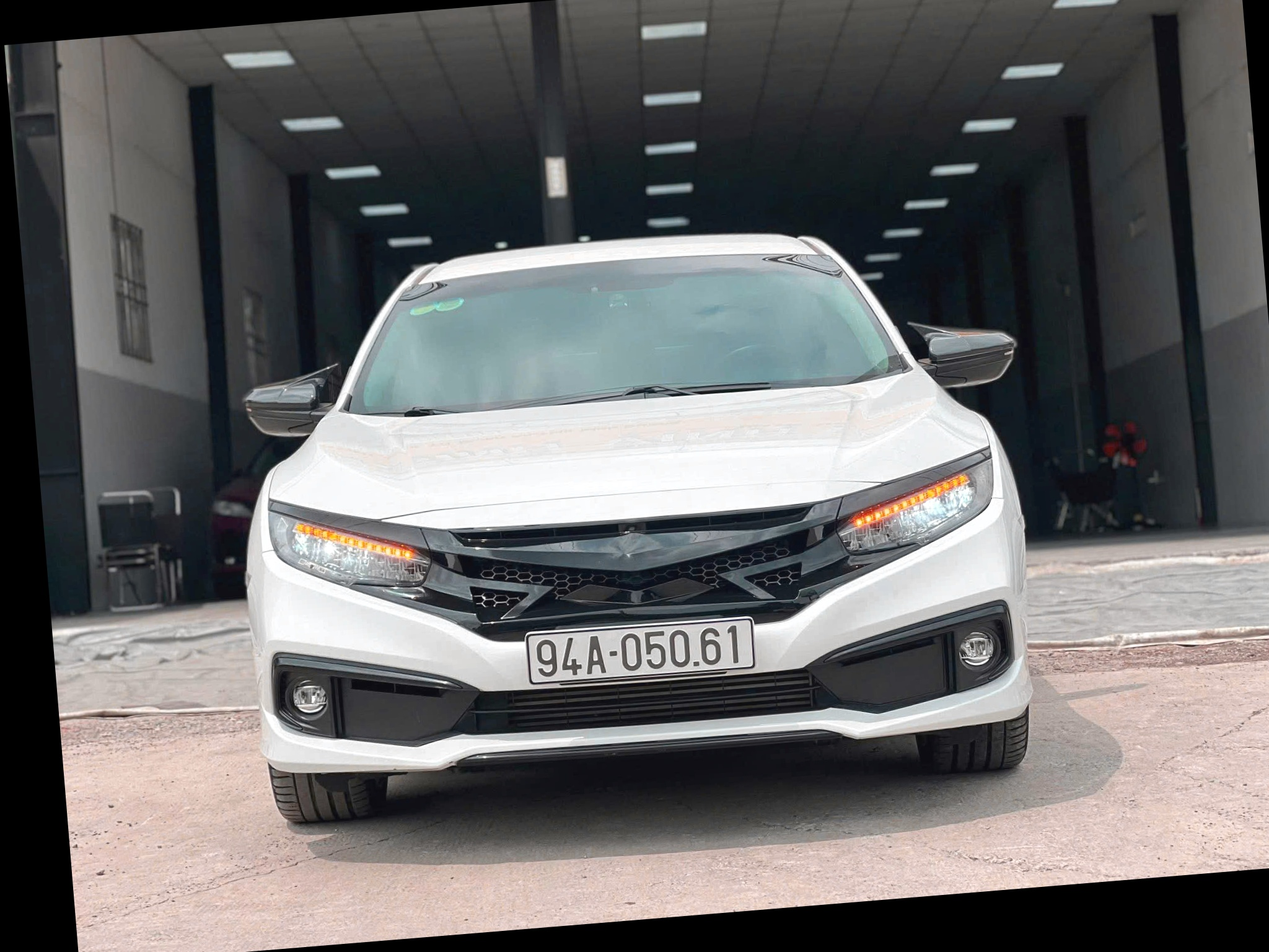Bien-so: (527, 611, 770, 695)
